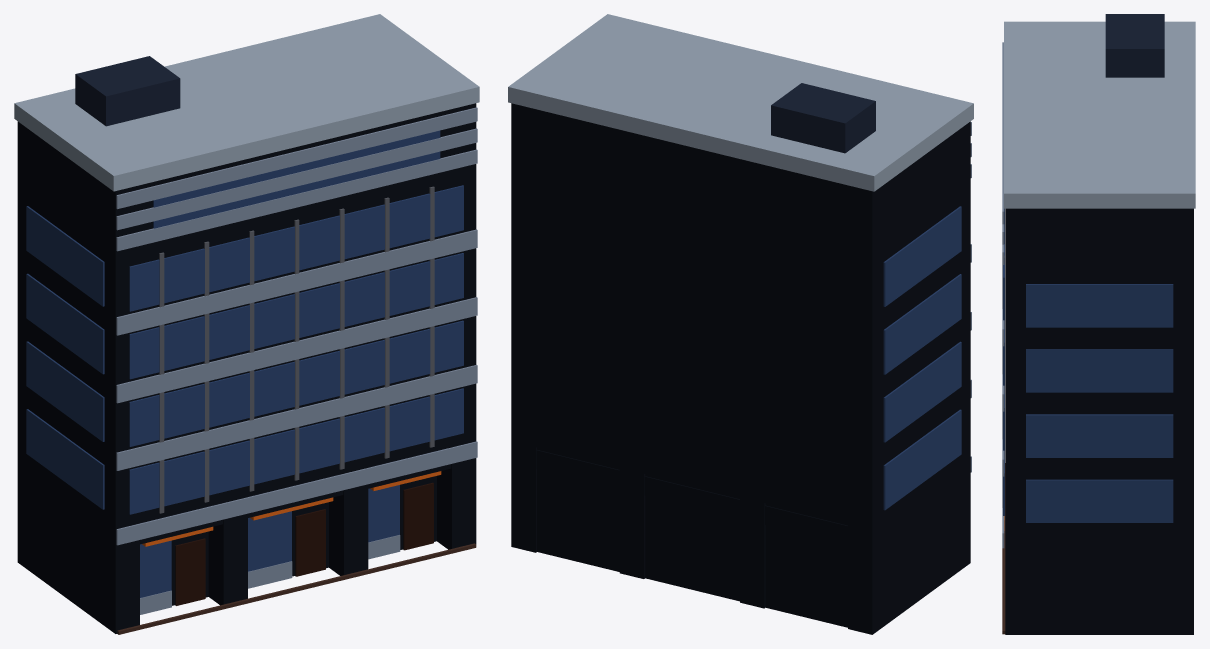
Rendered from tradetower1.obj.
3 views of the same model, side by side, from view 1: azimuth 30°, elevation 25°; view 2: azimuth 150°, elevation 25°; view 3: azimuth 270°, elevation 25° (orthographic). The views are drawn at different scales.
Visible parts, largest first — view 1: shaft-glazing, shaft, parapet, base-piers, spandrels, crown-bands, end-glazing, mullions, transom, shop-doors, shopfronts, roof-plant (+6 smaller); view 2: shaft, parapet, base-back, base-piers, end-glazing, roof-plant, base-heads; view 3: shaft, parapet, end-glazing, base-piers, roof-plant, crown-bands, pavement, shaft-glazing, spandrels.
Part boxes in pixels (left/top/right/bottom): shaft-glazing: left=129, top=185, right=463, bottom=514; shaft: left=17, top=103, right=476, bottom=528; parapet: left=14, top=14, right=479, bottom=191; base-piers: left=17, top=441, right=476, bottom=633; spandrels: left=116, top=229, right=477, bottom=470; crown-bands: left=116, top=107, right=477, bottom=251; end-glazing: left=26, top=206, right=104, bottom=509; mullions: left=159, top=186, right=434, bottom=513; transom: left=116, top=441, right=477, bottom=545; shop-doors: left=175, top=482, right=433, bottom=605; shopfronts: left=140, top=485, right=399, bottom=597; roof-plant: left=75, top=56, right=180, bottom=126; shaft: left=511, top=103, right=970, bottom=529; parapet: left=508, top=14, right=973, bottom=191; base-back: left=537, top=447, right=847, bottom=627; base-piers: left=511, top=441, right=970, bottom=634; end-glazing: left=883, top=206, right=961, bottom=510; roof-plant: left=771, top=83, right=875, bottom=153; base-heads: left=536, top=450, right=847, bottom=544; shaft: left=1005, top=208, right=1193, bottom=533; parapet: left=1004, top=21, right=1195, bottom=208; end-glazing: left=1026, top=284, right=1173, bottom=522; base-piers: left=1005, top=533, right=1193, bottom=634; roof-plant: left=1105, top=14, right=1164, bottom=77; crown-bands: left=1002, top=42, right=1004, bottom=264; pavement: left=1002, top=463, right=1005, bottom=634; shaft-glazing: left=1003, top=244, right=1004, bottom=515; spandrels: left=1002, top=265, right=1004, bottom=476.
Bounding box in the file's own units: 6.9 × 8.82 × 3.27.
